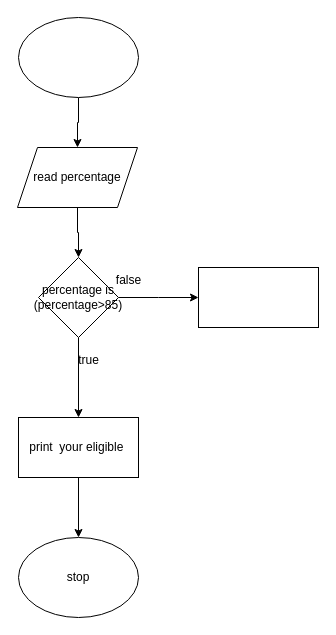
Image size: 336x635. Some labels were removed from this diagram. Here are the shapes that lost their labels. From the top down, the centre of each, then its label:
At [78,57]: "start".
At [258,297]: "your not eligible".
